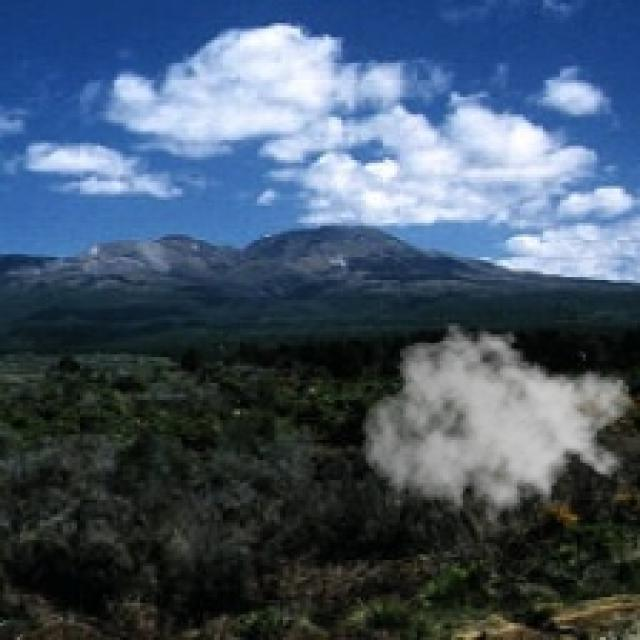Smoke: (360, 317, 634, 534)
